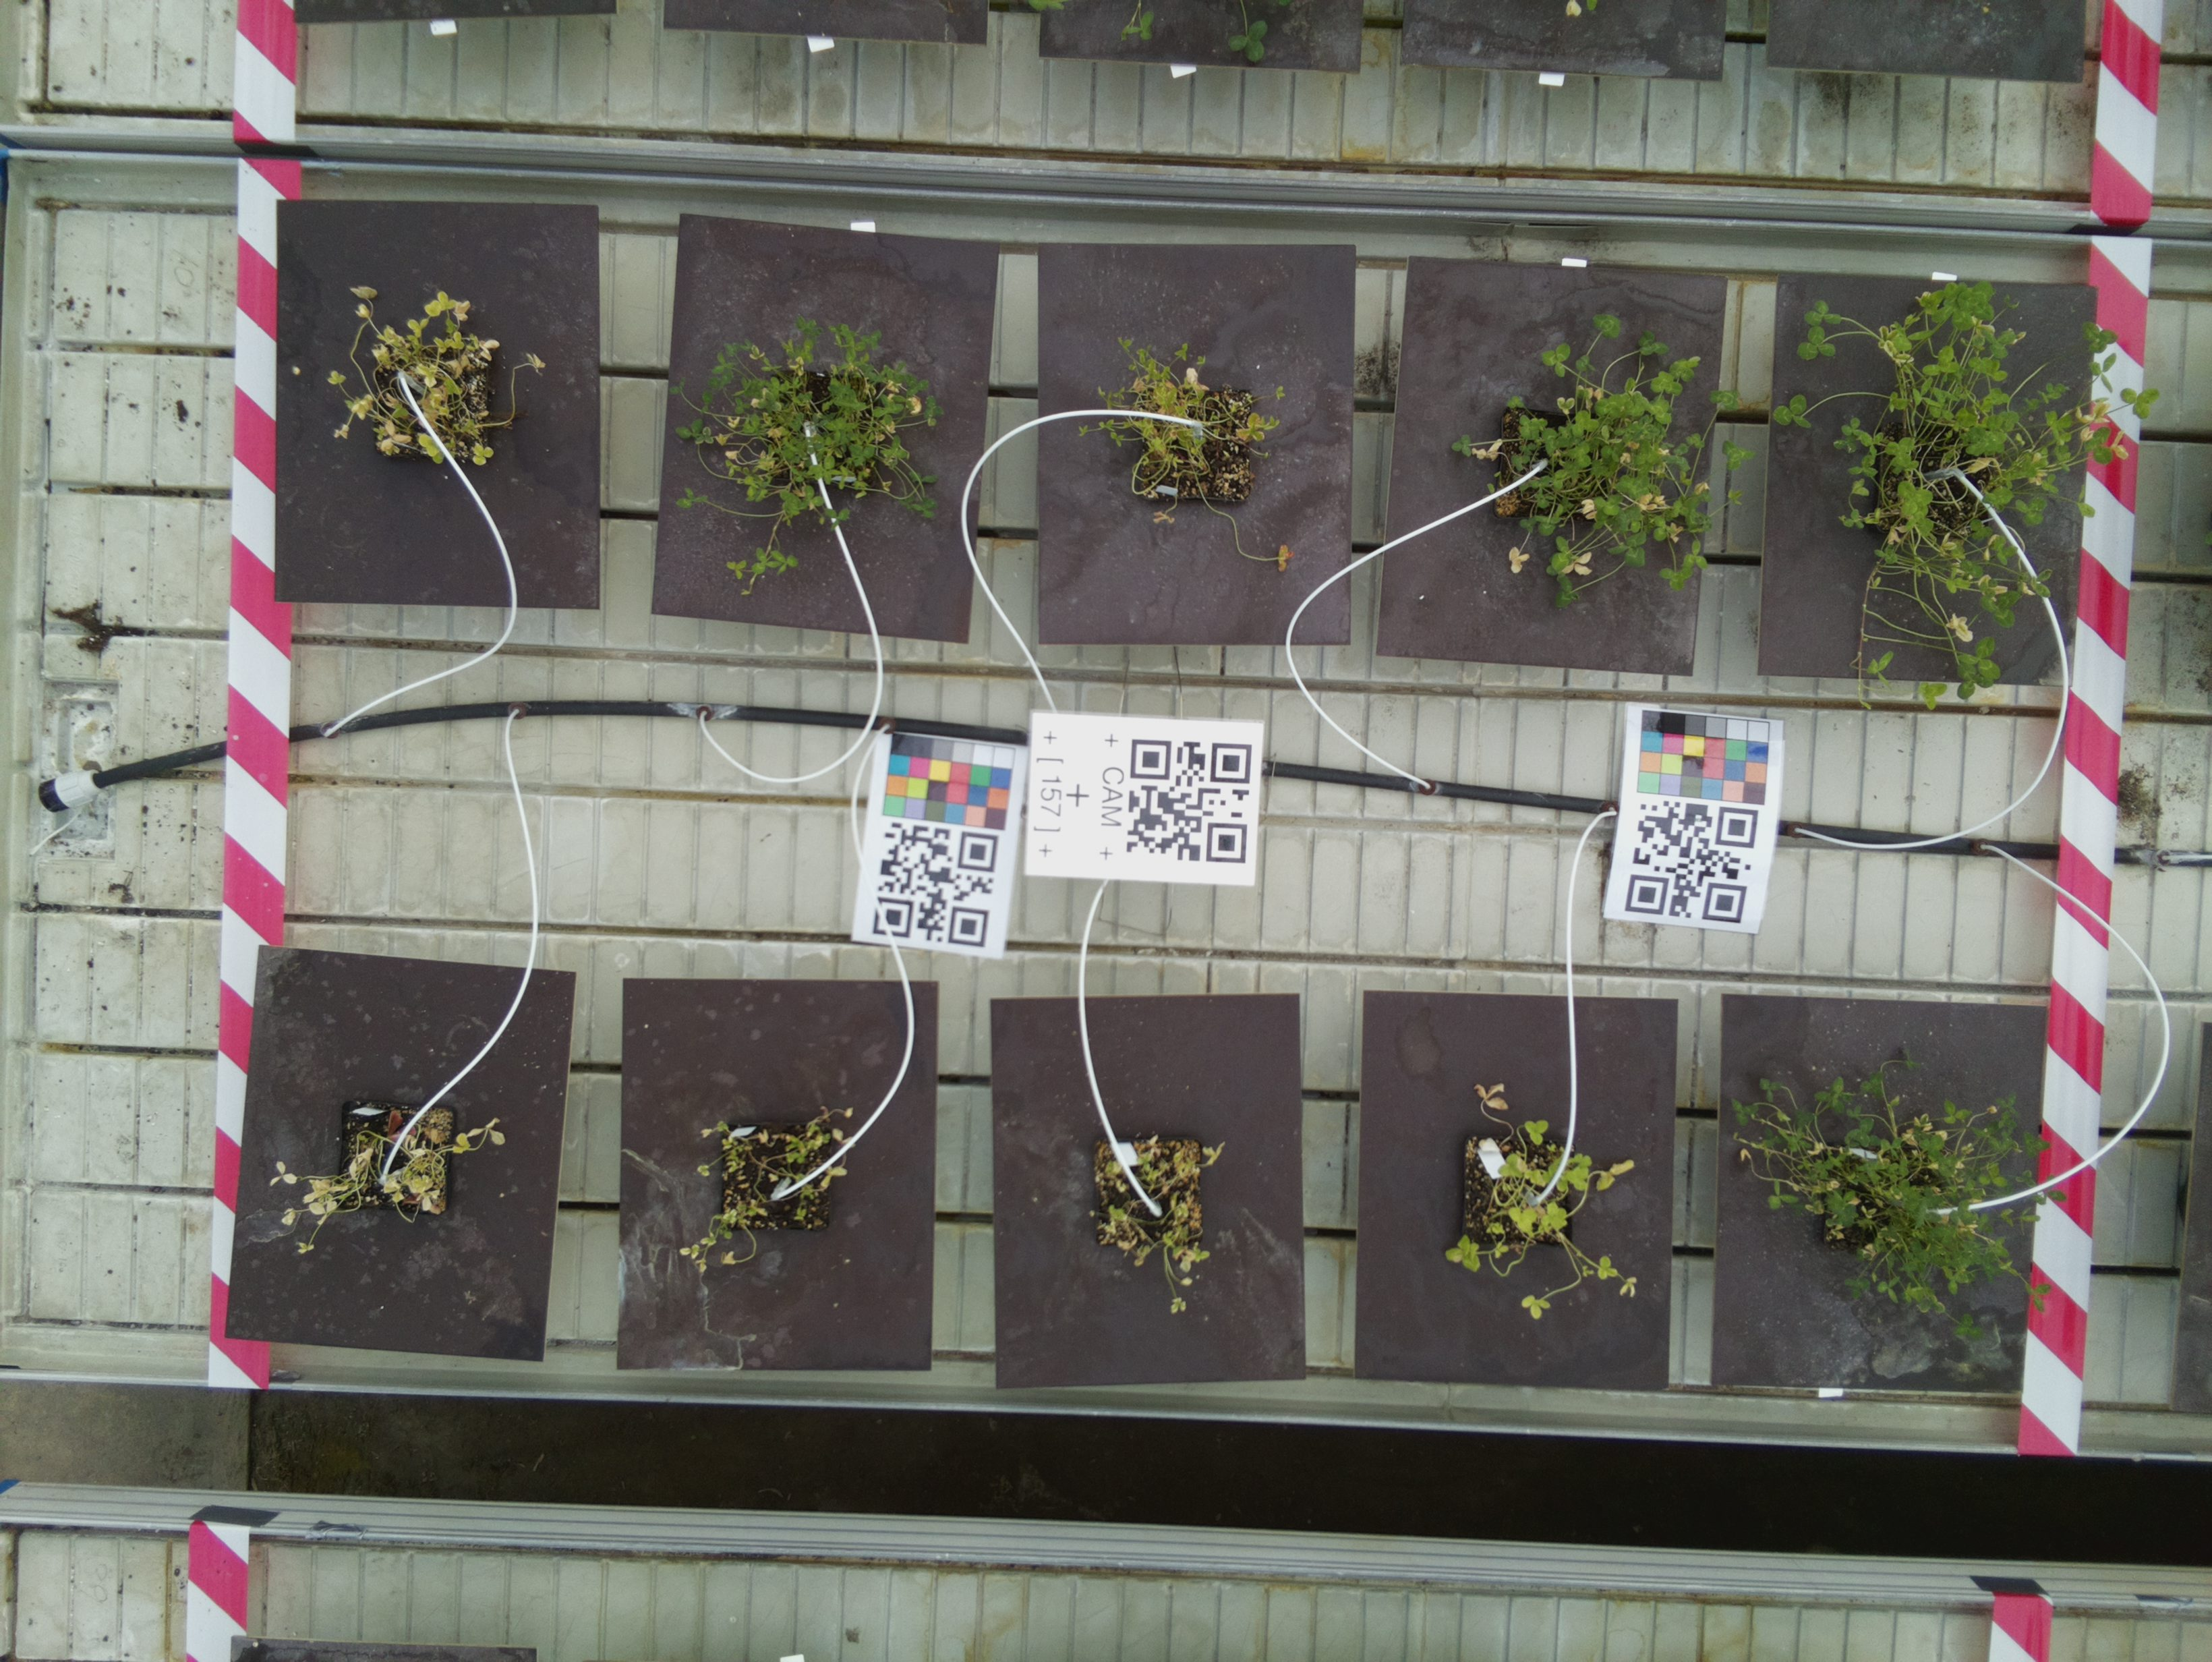POT: (1379, 265, 1734, 651), (655, 229, 992, 628), (276, 199, 599, 606), (1776, 271, 2088, 686), (220, 960, 560, 1337), (1034, 243, 1351, 646), (1723, 995, 2039, 1395), (620, 981, 929, 1370), (1365, 993, 1667, 1390), (997, 995, 1302, 1377)
QRCODE: (1018, 700, 1261, 889)
QRCOLOR: (1596, 700, 1784, 936), (850, 714, 1023, 960)
